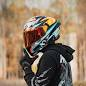helmets: (19, 16, 62, 55)
